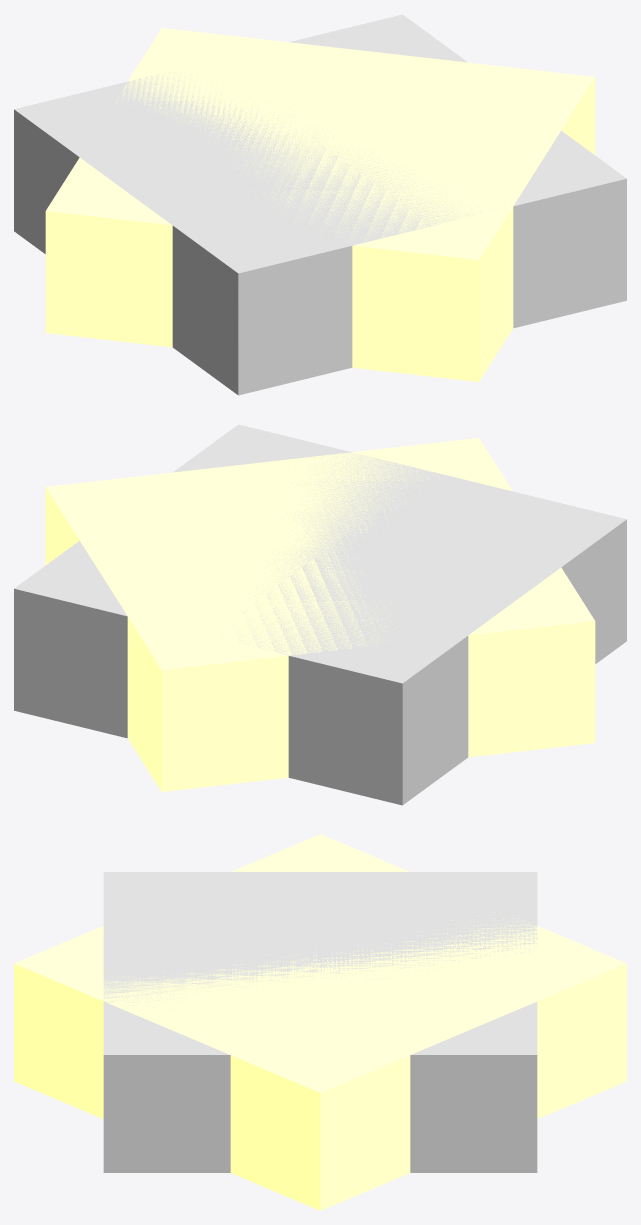
File: FXStar.fbx
3 renders of one model, top to bottom at view 1: azimuth 30°, elevation 25°; view 2: azimuth 150°, elevation 25°; view 3: azimuth 270°, elevation 25°, orthographic. The views are drawn at different scales.
Visible parts, largest first — view 1: FX Star_body_0, FX Star_body_1; view 2: FX Star_body_1, FX Star_body_0; view 3: FX Star_body_0, FX Star_body_1.
Part boxes in pixels (bbox=[...]): FX Star_body_0: bbox=[45, 28, 595, 381]; FX Star_body_1: bbox=[14, 14, 626, 395]; FX Star_body_1: bbox=[14, 424, 626, 805]; FX Star_body_0: bbox=[45, 438, 595, 791]; FX Star_body_0: bbox=[14, 834, 626, 1210]; FX Star_body_1: bbox=[103, 872, 537, 1172].
Bounding box in the file's own units: 70.71 × 15 × 70.71.
